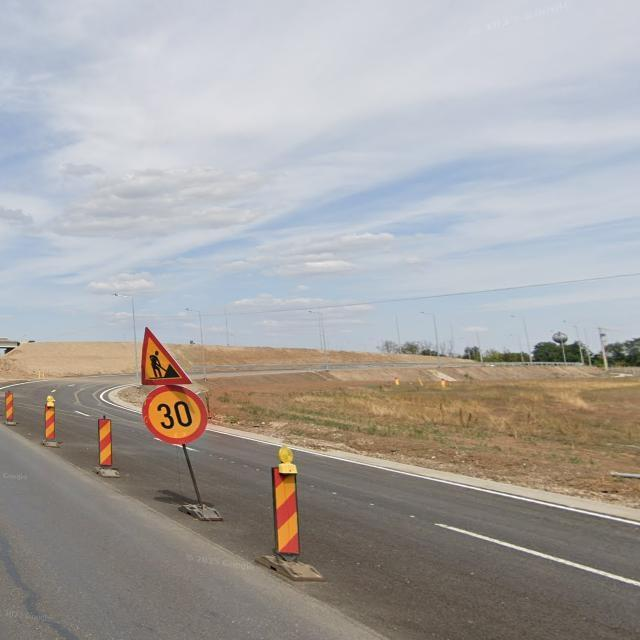forb_speed_over_30: (143, 384, 206, 446)
